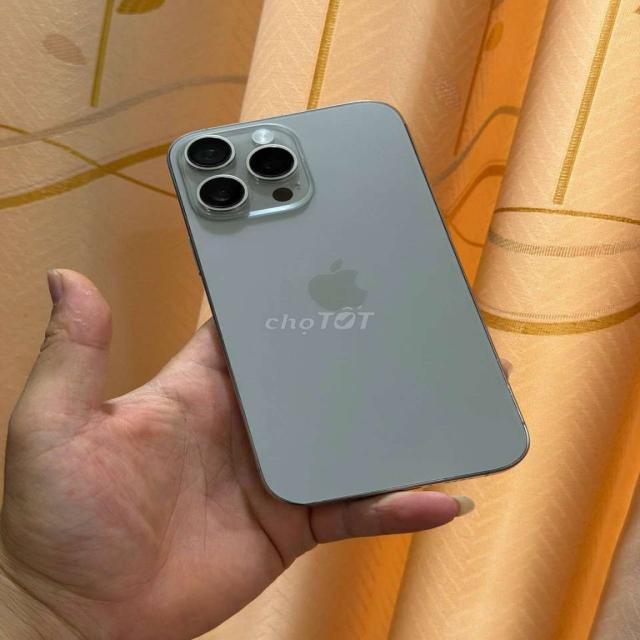gen_16: (168, 102, 528, 506)
